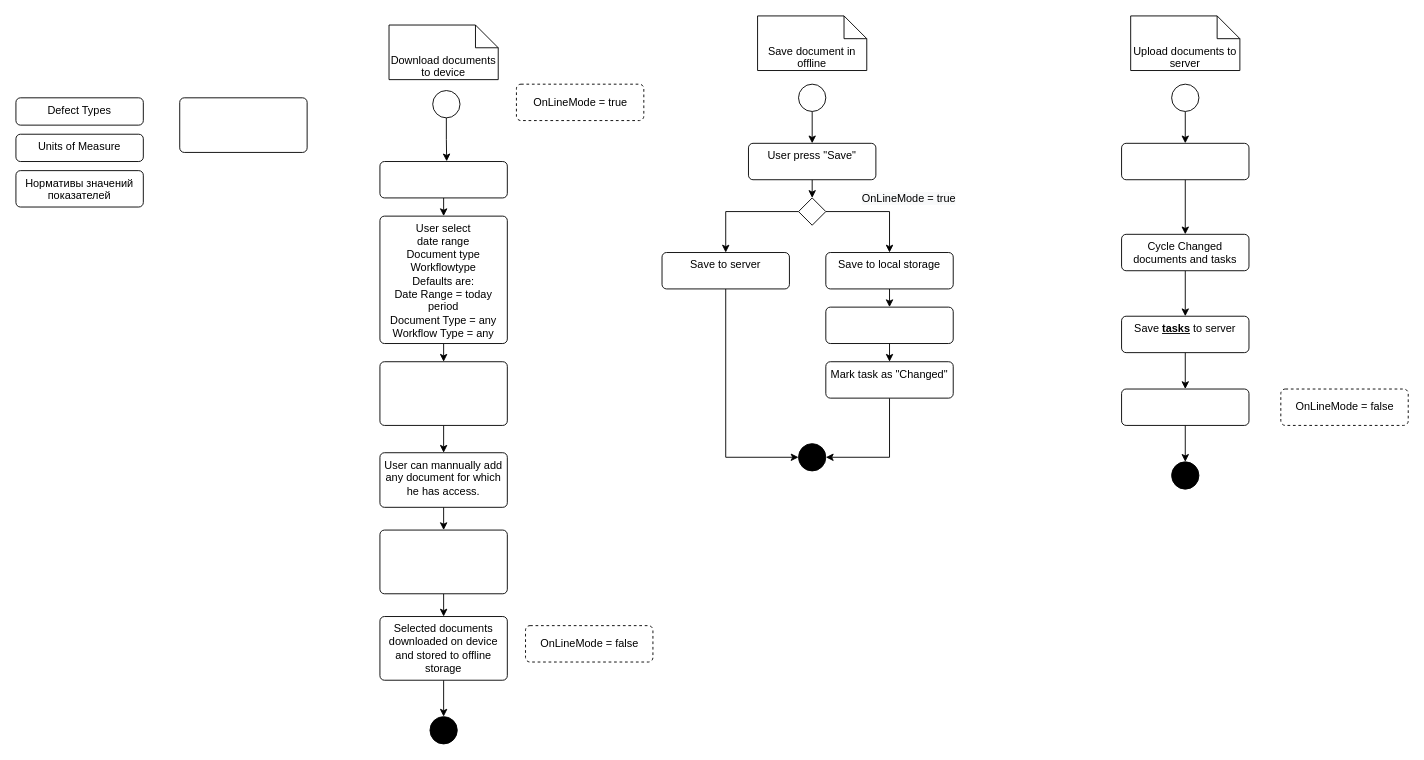
This 1424x760 diagram has some shape labels left out. The shapes that lost their labels are listed below. From the top down, each one's centre as x and y in pixels, then its label:
(243,124): Dictionary synchronization through Mimetis framework
(443,179): Use start selection of his documents
(1185,161): User press "Upload and go online"
(889,325): Mark document as "Changed"
(443,393): Selection by documents where user is Author, Responsible, Issuer, Team Member
(1185,406): Set state OnlineMode = false
(443,561): User accept selection by pressing "Download and Switch to ofline" documents
